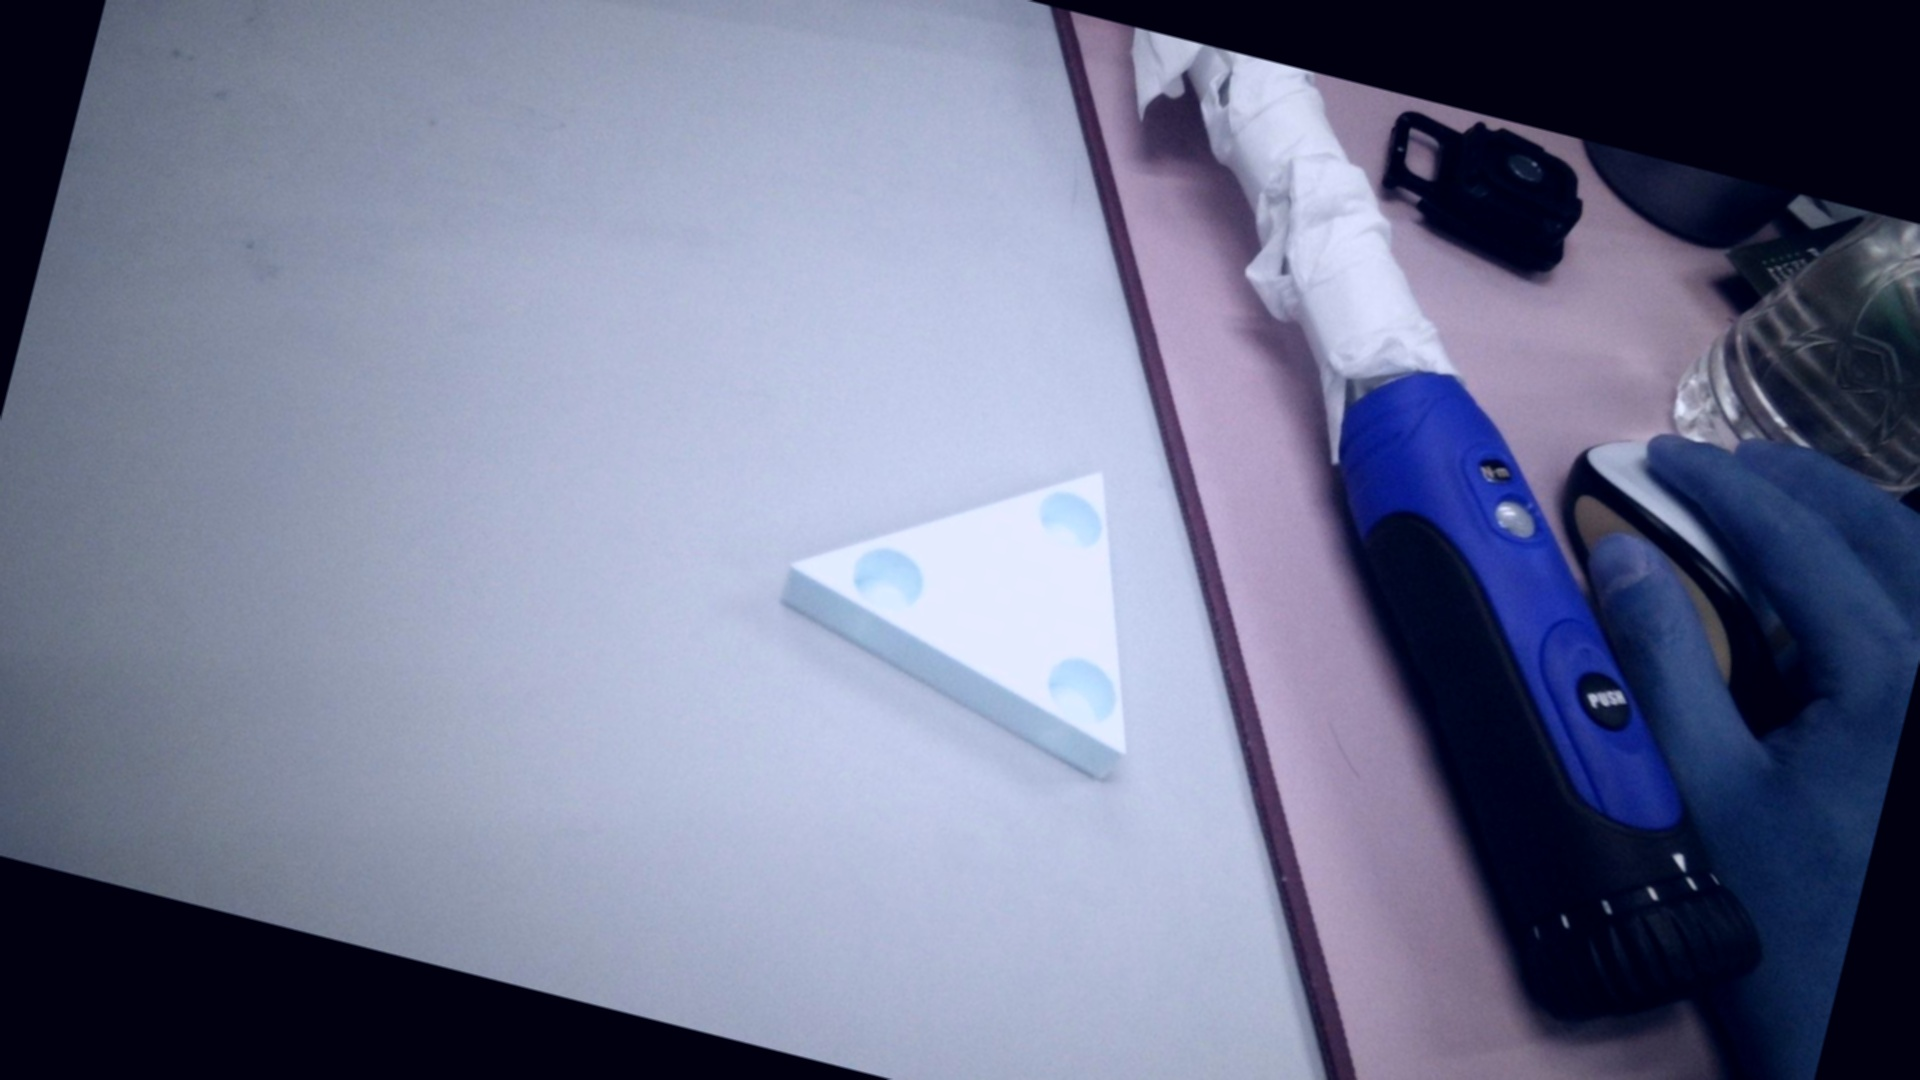hole: (1038, 651, 1131, 738), (843, 533, 930, 624), (1033, 487, 1106, 559)
obj: (713, 365, 1217, 818)
